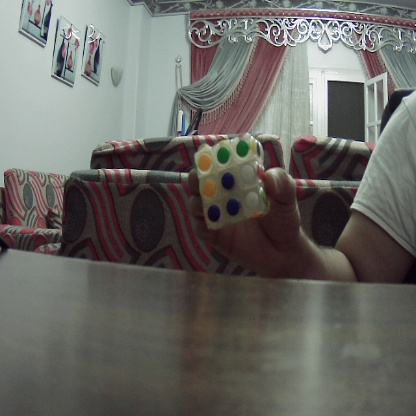Rubix Cube: (196, 139, 269, 220)
